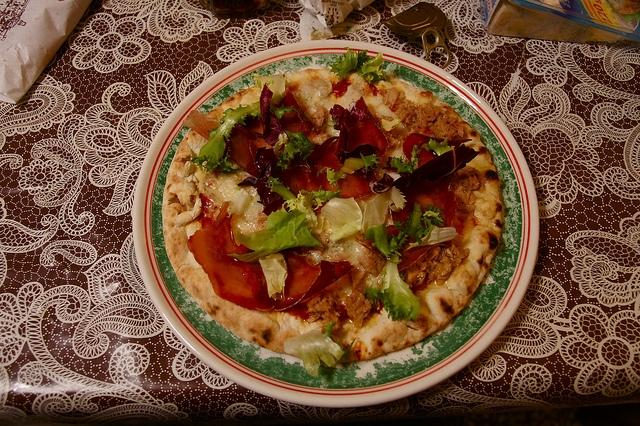lettuce: (185, 100, 262, 175), (226, 208, 324, 262), (284, 320, 356, 378), (365, 260, 420, 321), (282, 185, 342, 229), (321, 196, 363, 242), (364, 222, 409, 264), (394, 203, 436, 244), (276, 130, 314, 170), (356, 49, 392, 83), (329, 46, 358, 80), (424, 138, 455, 156), (423, 205, 448, 227), (390, 156, 417, 174), (360, 153, 381, 170), (411, 144, 421, 170)
